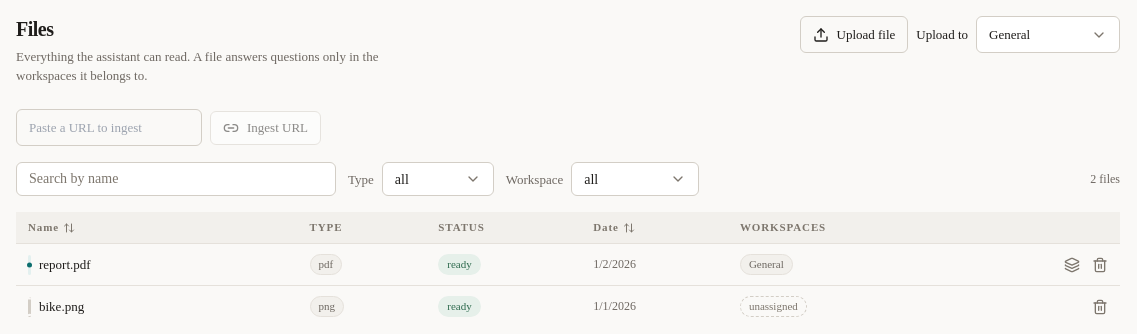
Test: FilesManager › disables the Ingest URL button until a URL is entered
Check: the text "report.pdf" is shown, box 39,255 -> 91,274
Check: the button "Ingest URL" is disabled, box 210,110 -> 321,144
In the field named "Ingest from URL": (109, 128) 16,109 -> 202,146, type "https://example.com"
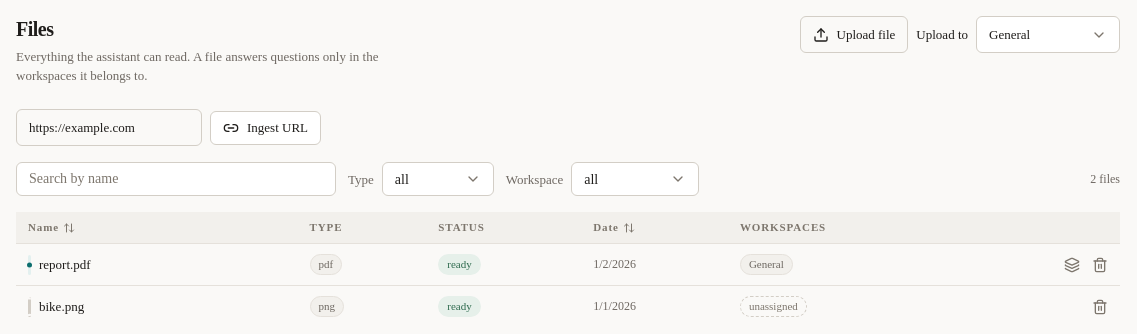
Check: the button "Ingest URL" is enabled, box 210,110 -> 321,144
